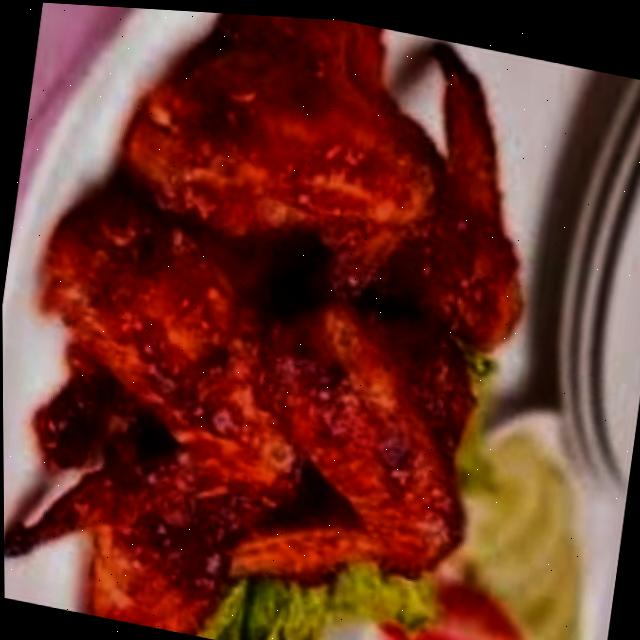鸡肉料理 含炸鸡: (0, 0, 626, 640)
